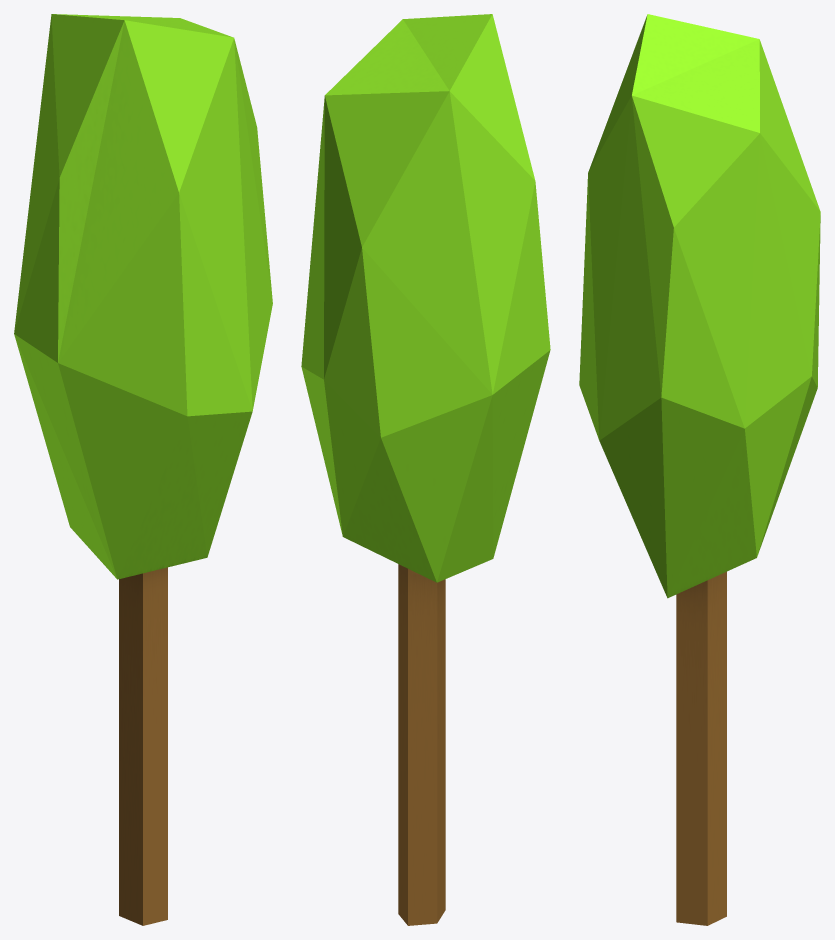
File: tree2.glb
3 views of the same model, side by side, from view 1: azimuth 30°, elevation 25°; view 2: azimuth 150°, elevation 25°; view 3: azimuth 270°, elevation 25° (orthographic). The views are drawn at different scales.
Parts seen in each view (by area): view 1: Cylinder; view 2: Cylinder; view 3: Cylinder.
Part boxes in pixels (x1,y1,x2,y2): Cylinder: [14, 14, 272, 925]; Cylinder: [301, 14, 550, 925]; Cylinder: [579, 14, 820, 925].
Bounding box in the file's own units: 2.07 × 8.37 × 2.08.
Materials: 2 (2 with a texture image).
